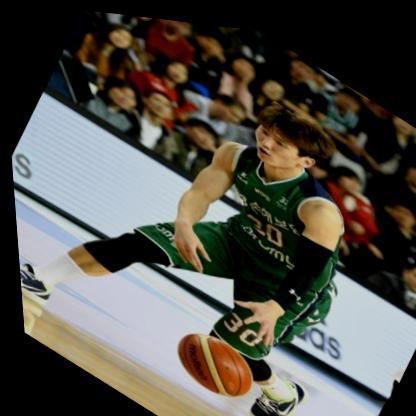basketball: (160, 314, 259, 406)
